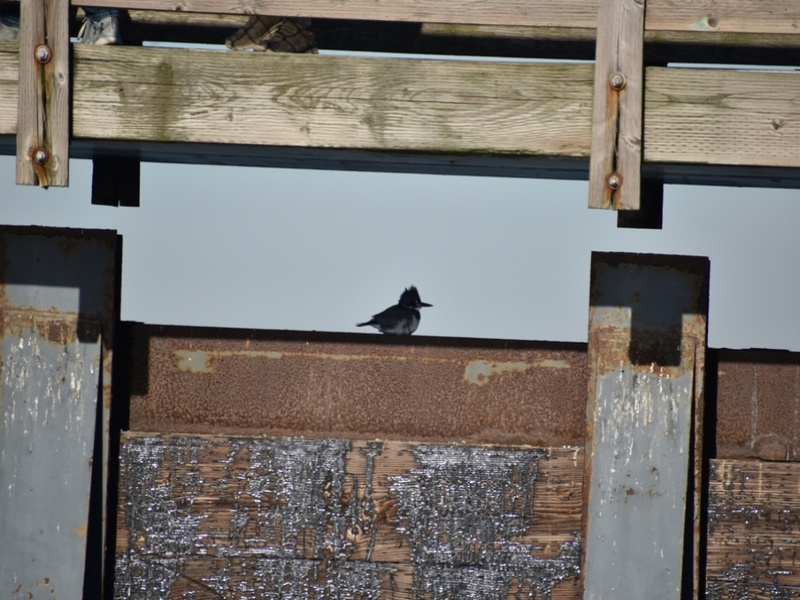kingfisher: (357, 284, 433, 335)
